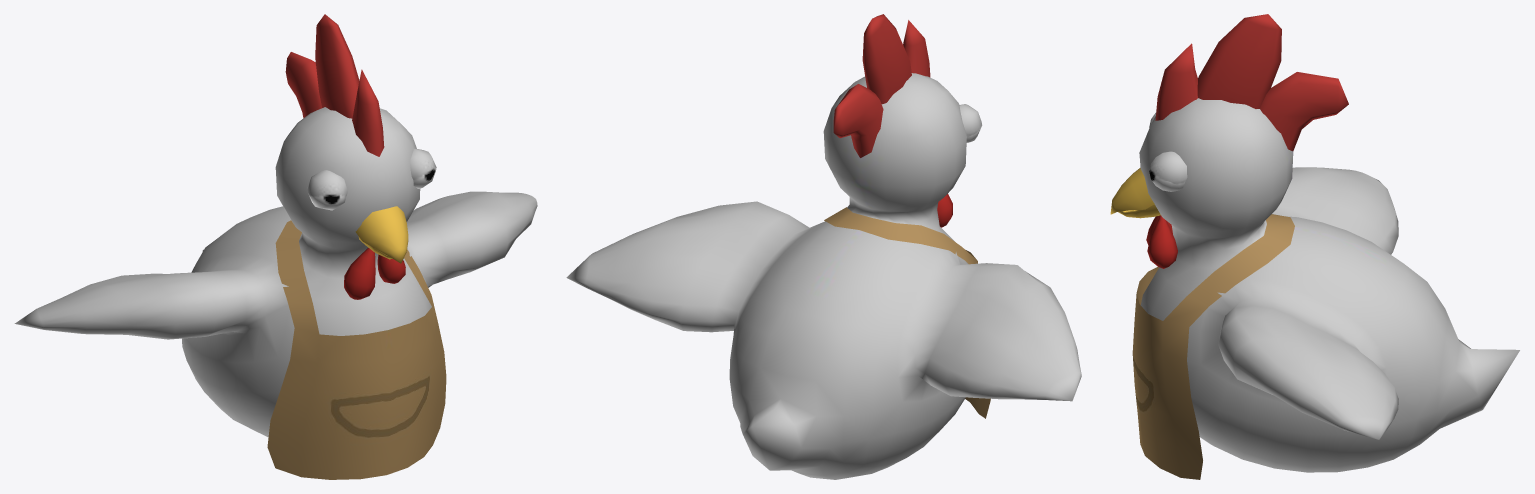
File: Momma.fbx
The picture shows the model from 3 angles, left to right: view 1: azimuth 30°, elevation 25°; view 2: azimuth 150°, elevation 25°; view 3: azimuth 270°, elevation 25°; orthographic projection. The views are drawn at different scales.
Parts seen in each view (by area): view 1: Momma; view 2: Momma; view 3: Momma.
Part boxes in pixels (x1,y1,x2,y2): Momma: [14, 14, 537, 479]; Momma: [566, 14, 1081, 479]; Momma: [1110, 14, 1519, 479].
Bounding box in the file's own units: 130 × 104 × 86.53.
1 material, 1 textured.
